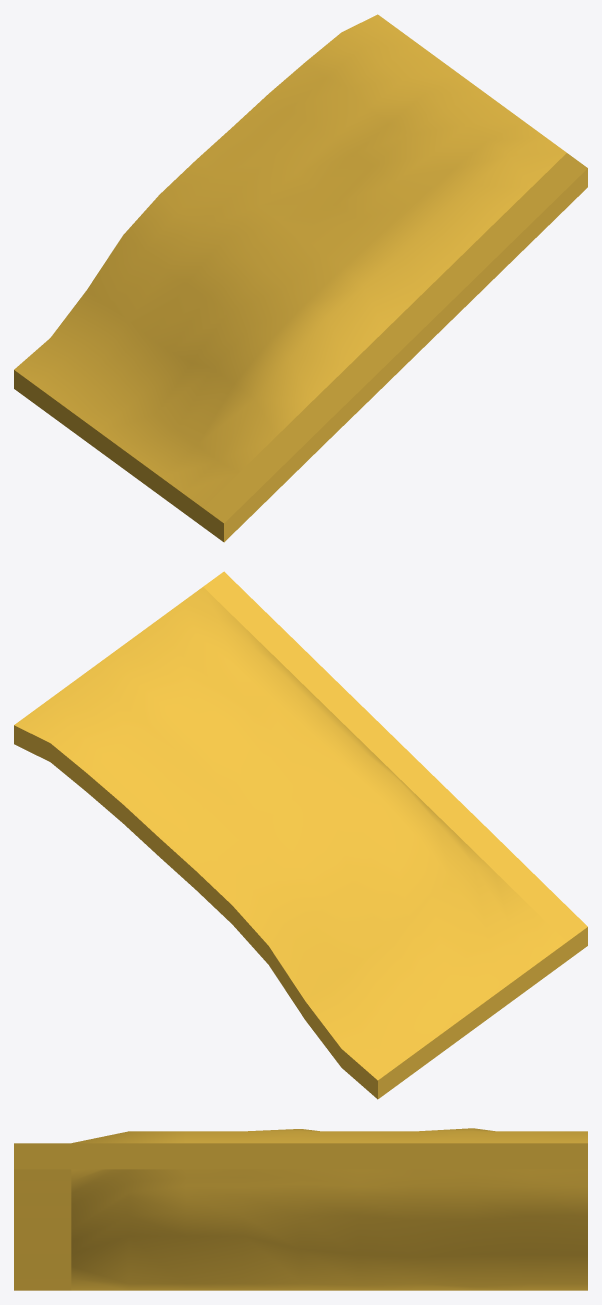
File: Steil - Mitte - Hügle b -x.fbx
The picture shows the model from 3 angles, top to bottom: view 1: azimuth 30°, elevation 25°; view 2: azimuth 150°, elevation 25°; view 3: azimuth 270°, elevation 25°; orthographic projection. The views are drawn at different scales.
Parts seen in each view (by area): view 1: Steil - Mitte - Hügle b -x; view 2: Steil - Mitte - Hügle b -x; view 3: Steil - Mitte - Hügle b -x.
Part boxes in pixels (box(x1,y1,x2,y2)): Steil - Mitte - Hügle b -x: box(14, 14, 587, 542); Steil - Mitte - Hügle b -x: box(14, 571, 587, 1099); Steil - Mitte - Hügle b -x: box(14, 1128, 587, 1290).
Bounding box in the file's own units: 394 × 295 × 394.
